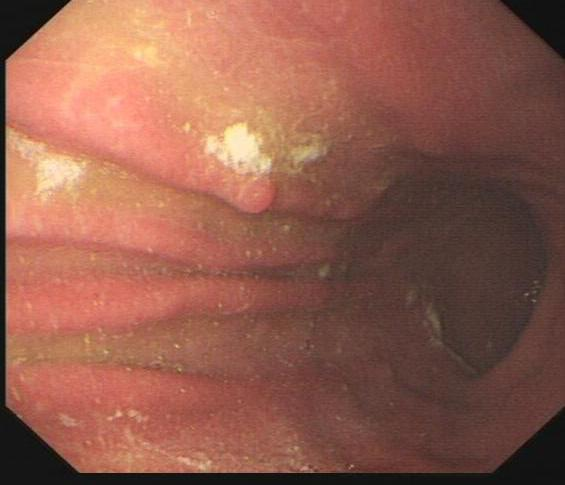Polyp: (227, 168, 281, 221)
